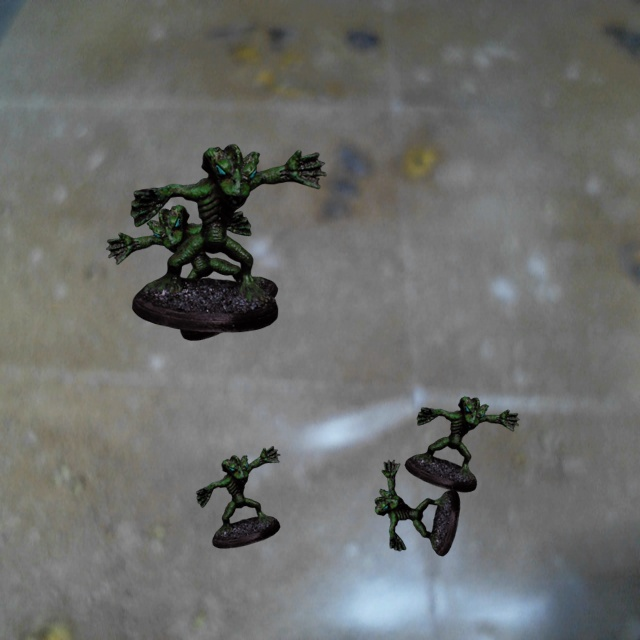pieza_juego: (130, 144, 326, 332), (106, 205, 277, 340), (405, 396, 519, 492), (196, 446, 280, 548), (374, 460, 459, 556)
